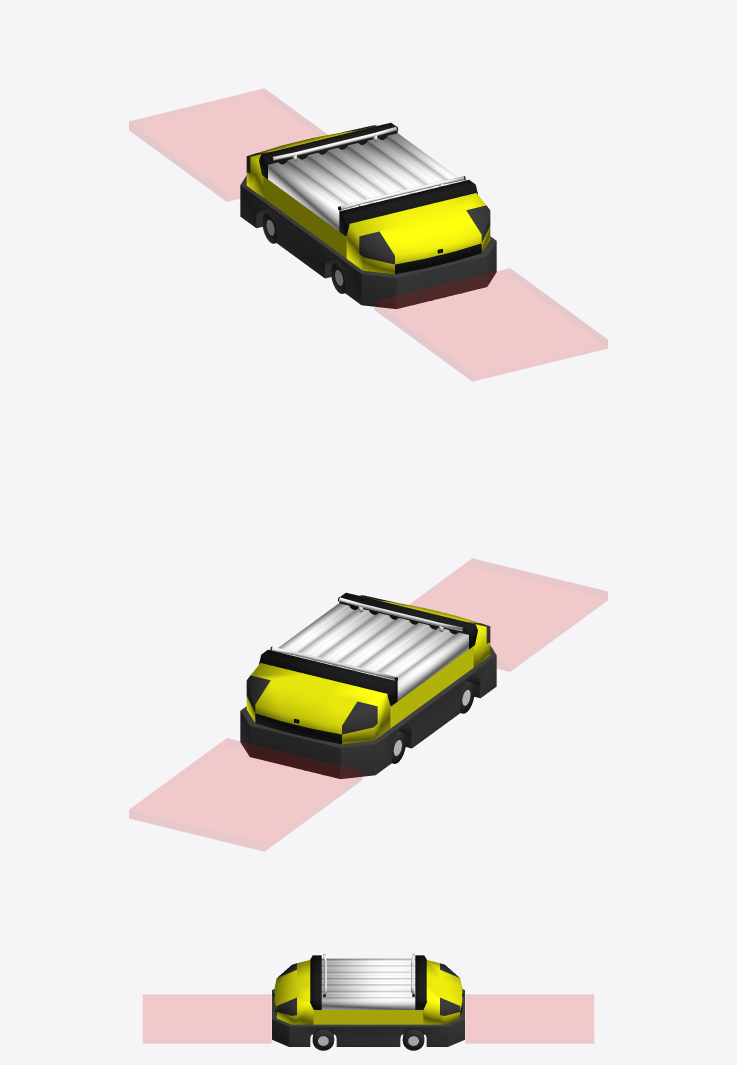
File: agv.glb
The picture shows the model from 3 angles, top to bottom: view 1: azimuth 30°, elevation 25°; view 2: azimuth 150°, elevation 25°; view 3: azimuth 270°, elevation 25°; orthographic projection. The views are drawn at different scales.
Parts seen in each view (by area): view 1: FrontHazardRed, RearHazardRed, LoadingPlatform, Guard, Body1, Cube.005, Cube.001, Cube.006, Body2; view 2: RearHazardRed, FrontHazardRed, LoadingPlatform, Guard, Body2, Cube.006, Cube.001, Cube.005, Body1; view 3: FrontHazardRed, RearHazardRed, LoadingPlatform, Guard, Body1, Body2, Cube.001, Cube.005, Cube.006, LeftRearWheel, LeftFrontWheel.
Part boxes in pixels (left/top/right/bottom): FrontHazardRed: left=375, top=268, right=607, bottom=380; RearHazardRed: left=129, top=89, right=326, bottom=201; LoadingPlatform: left=268, top=133, right=462, bottom=230; Guard: left=240, top=175, right=496, bottom=308; Body1: left=346, top=193, right=490, bottom=274; Cube.005: left=339, top=180, right=477, bottom=235; Cube.001: left=263, top=176, right=346, bottom=258; Cube.006: left=259, top=122, right=397, bottom=178; Body2: left=246, top=125, right=377, bottom=197; RearHazardRed: left=129, top=738, right=361, bottom=850; FrontHazardRed: left=410, top=559, right=607, bottom=671; LoadingPlatform: left=278, top=603, right=468, bottom=700; Guard: left=240, top=645, right=496, bottom=778; Body2: left=246, top=663, right=390, bottom=744; Cube.006: left=259, top=650, right=397, bottom=705; Cube.001: left=390, top=646, right=473, bottom=728; Cube.005: left=339, top=592, right=477, bottom=648; Body1: left=359, top=595, right=490, bottom=667; FrontHazardRed: left=143, top=995, right=270, bottom=1042; RearHazardRed: left=466, top=995, right=593, bottom=1042; LoadingPlatform: left=321, top=958, right=415, bottom=1009; Guard: left=272, top=989, right=464, bottom=1046; Body1: left=274, top=960, right=313, bottom=1024; Body2: left=423, top=960, right=462, bottom=1024; Cube.001: left=313, top=1010, right=423, bottom=1024; Cube.005: left=310, top=955, right=321, bottom=1009; Cube.006: left=415, top=955, right=426, bottom=1009; LeftRearWheel: left=402, top=1028, right=424, bottom=1050; LeftFrontWheel: left=312, top=1028, right=334, bottom=1050.
Bounding box in the file's own units: 1 × 0.4797 × 5.51.
